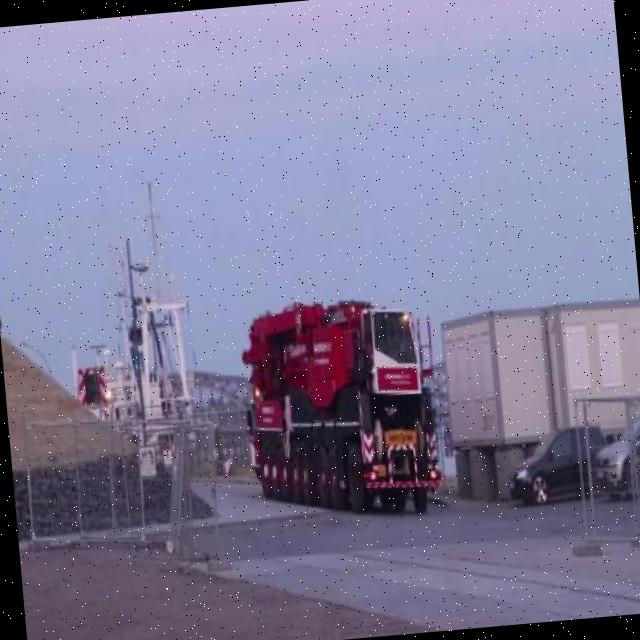Mobile Crane: (238, 289, 442, 527)
